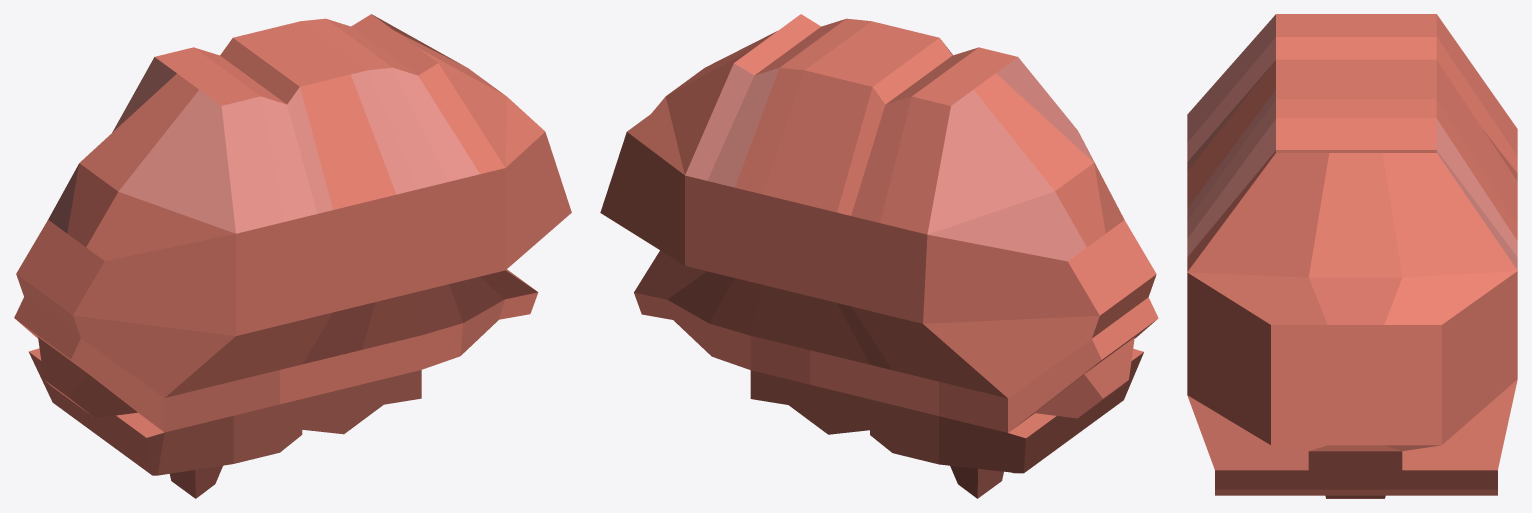
Rendered from brain.glb.
3 renders of one model, left to right at view 1: azimuth 30°, elevation 25°; view 2: azimuth 150°, elevation 25°; view 3: azimuth 270°, elevation 25°, orthographic. The views are drawn at different scales.
Visible parts, largest first — view 1: Cube; view 2: Cube; view 3: Cube.
Part boxes in pixels (x1=…): Cube: x1=14, y1=14, x2=571, y2=498; Cube: x1=600, y1=14, x2=1158, y2=498; Cube: x1=1187, y1=14, x2=1517, y2=498.
Size of the model in its own units: 2.54 by 2 by 1.23.
